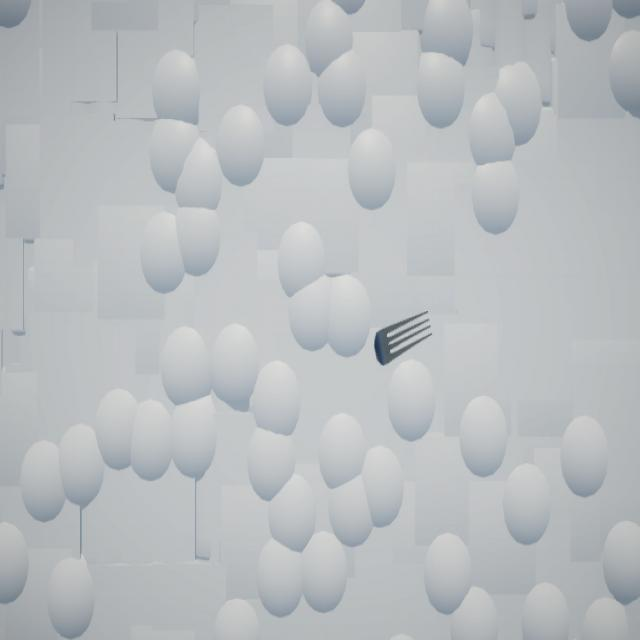top_folk: (375, 313, 433, 367)
